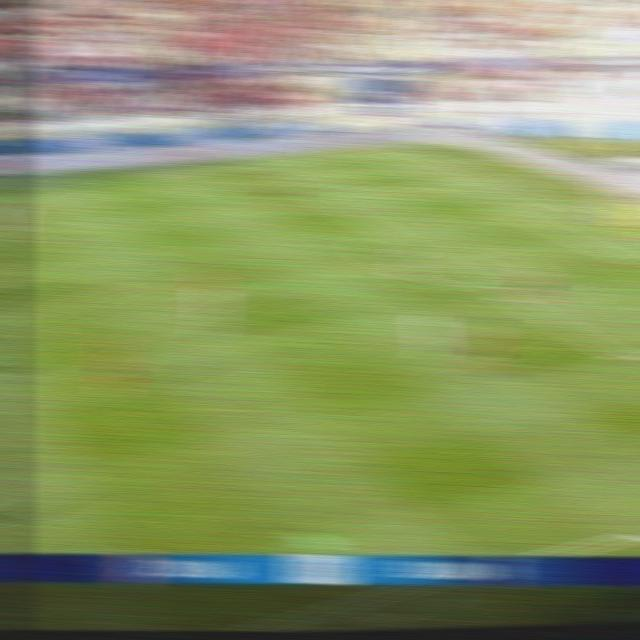bigarea_bottom_inner: (605, 343, 640, 370)
bigarea_top_inner: (304, 188, 336, 203)
bigarea_top_outter: (474, 169, 504, 183)
bottom_arc_area_intersection: (468, 274, 501, 292)
corner: (400, 144, 432, 155)
smallarea_top_inner: (490, 203, 520, 217)
smallarea_top_outter: (547, 193, 579, 209)
top_arc_area_intersection: (366, 222, 399, 237)
